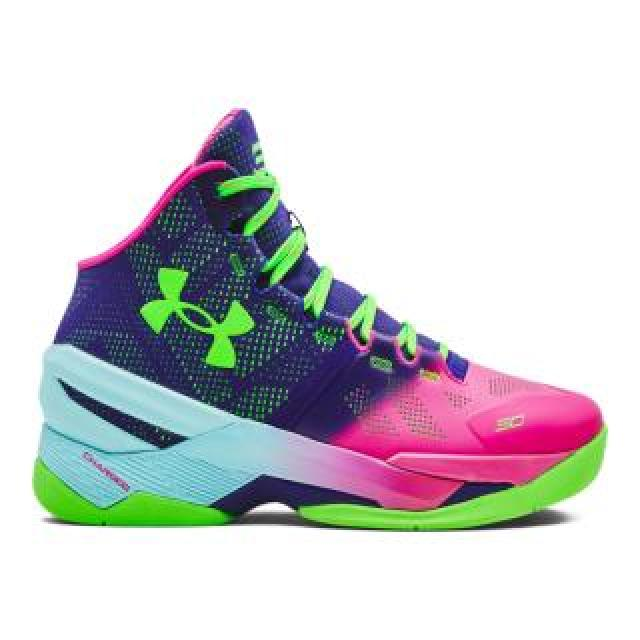shoes: (29, 105, 609, 533)
